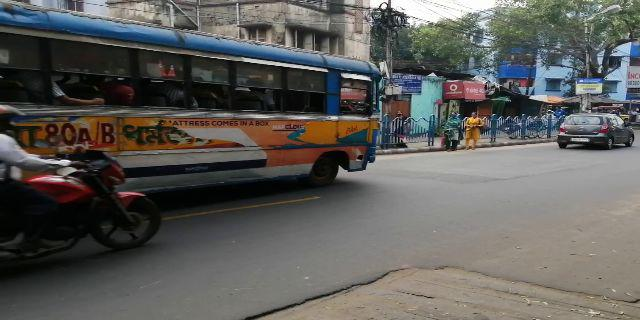Bus: (6, 20, 381, 191)
Car: (555, 113, 636, 150)
Motorbike: (1, 116, 156, 257)
